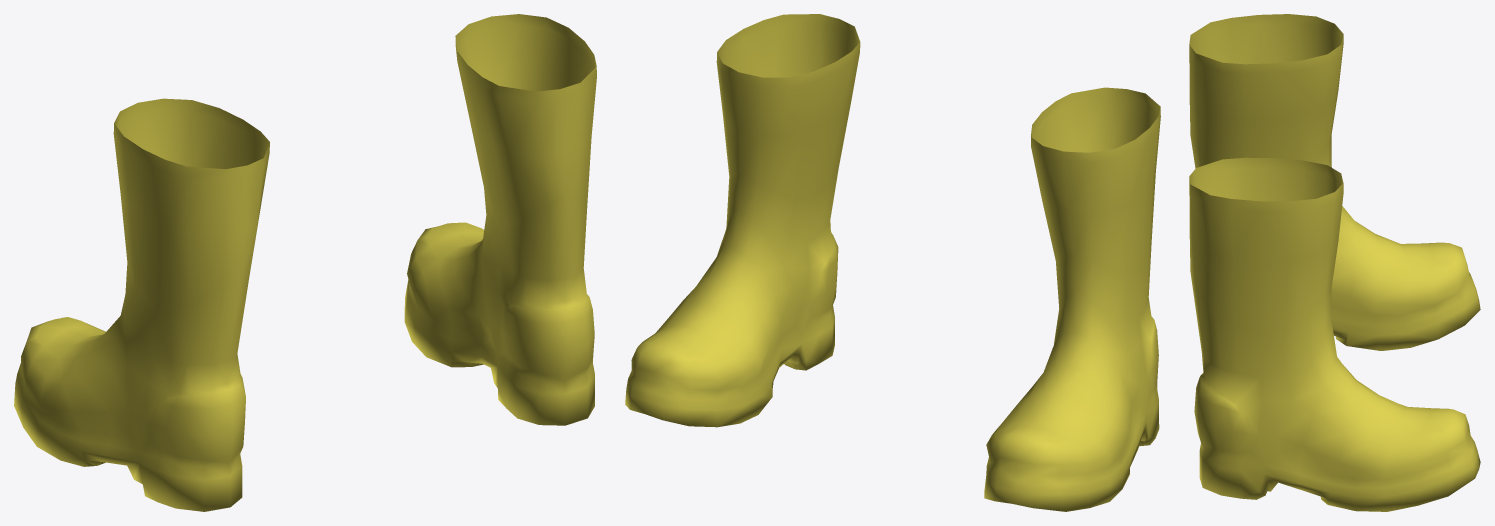
The model's file is red rain boots.fbx.
3 views of the same model, side by side, from view 1: azimuth 30°, elevation 25°; view 2: azimuth 150°, elevation 25°; view 3: azimuth 270°, elevation 25° (orthographic). The views are drawn at different scales.
Parts seen in each view (by area): view 1: M_Boot_LR; view 2: M_Boot_LR; view 3: M_Boot_LR.
Part boxes in pixels (x1=…): M_Boot_LR: x1=14, y1=14, x2=596, y2=511; M_Boot_LR: x1=625, y1=14, x2=1160, y2=511; M_Boot_LR: x1=1189, y1=14, x2=1480, y2=511.
Size of the model in its own units: 52.64 by 34.59 by 30.46.
